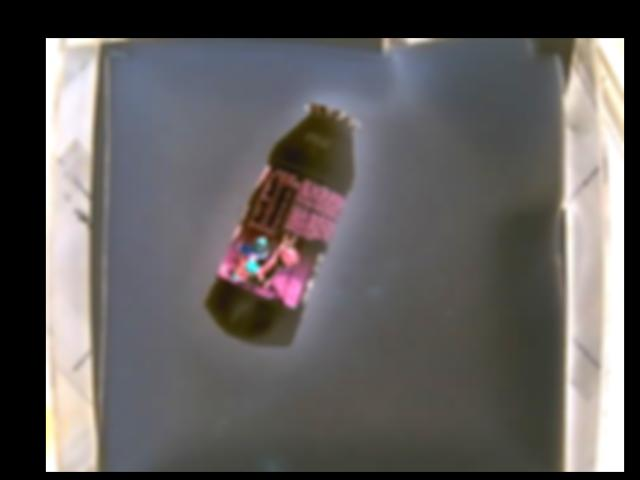Bottle: (203, 104, 362, 350)
